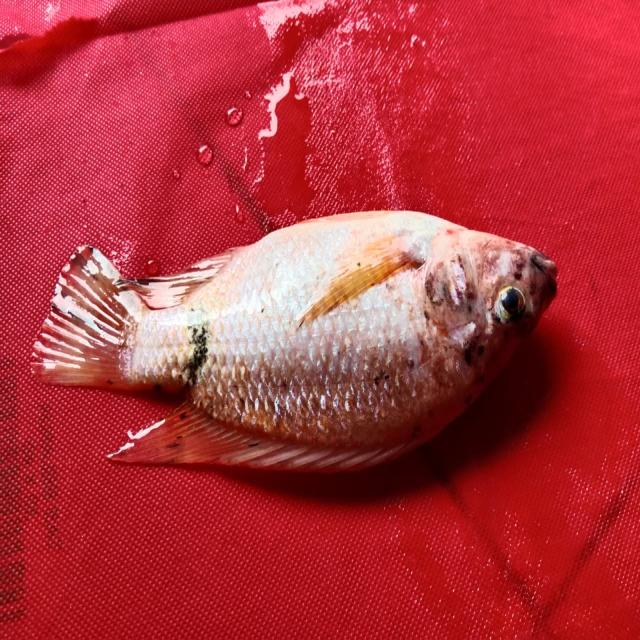ikan: (30, 191, 573, 504)
